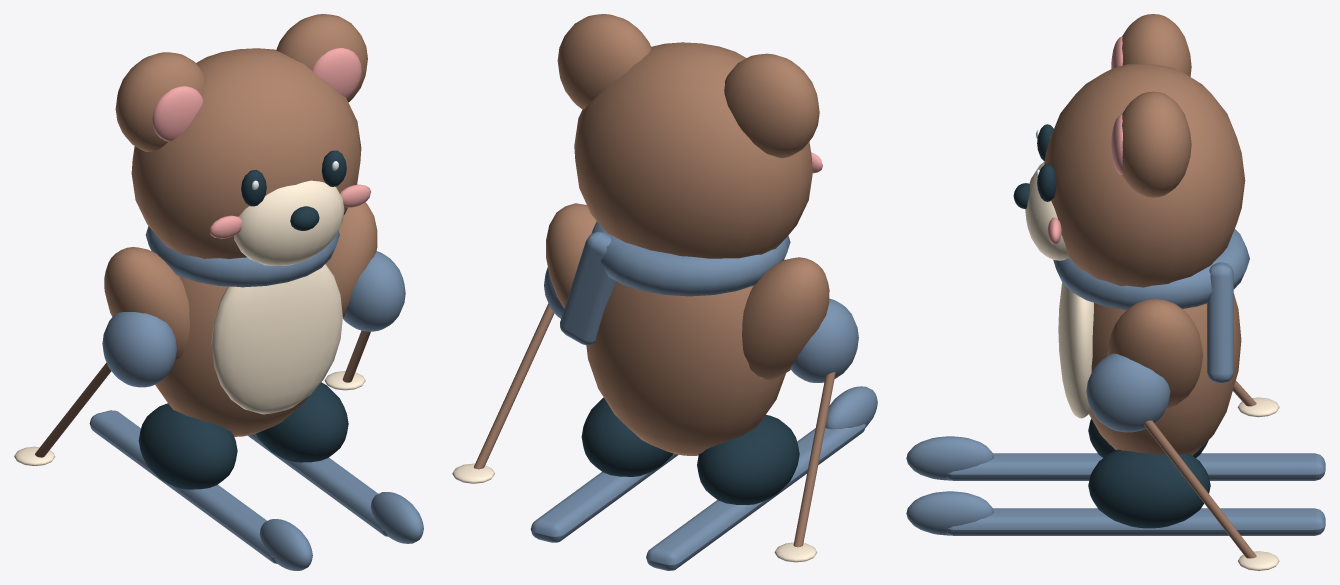
File: bear.glb
The picture shows the model from 3 angles, left to right: view 1: azimuth 30°, elevation 25°; view 2: azimuth 150°, elevation 25°; view 3: azimuth 270°, elevation 25°; orthographic projection. The views are drawn at different scales.
Visible parts, largest first — view 1: Head.003, Body, Left ski, Right ski, Right pole, Left pole; view 2: Head.003, Body, Left ski, Right ski, Right pole, Left pole; view 3: Head.003, Body, Right ski, Left ski, Right pole, Left pole.
Part boxes in pixels (x1,y1,x2,y2): Head.003: (115,14,370,265); Body: (102,202,405,436); Left ski: (89,403,312,570); Right ski: (248,382,423,543); Right pole: (35,330,370,457); Left pole: (14,446,55,465); Head.003: (557,14,822,258); Body: (544,203,858,455); Left ski: (646,386,877,570); Right ski: (530,397,678,542); Right pole: (452,303,835,547); Left pole: (774,542,817,562); Head.003: (1013,14,1245,287); Body: (1053,229,1249,455); Right ski: (906,449,1325,535); Left ski: (906,419,1325,480); Right pole: (1144,381,1279,570); Left pole: (1237,397,1279,417).
Bounding box in the file's own units: 2.12 × 2.59 × 2.19.
